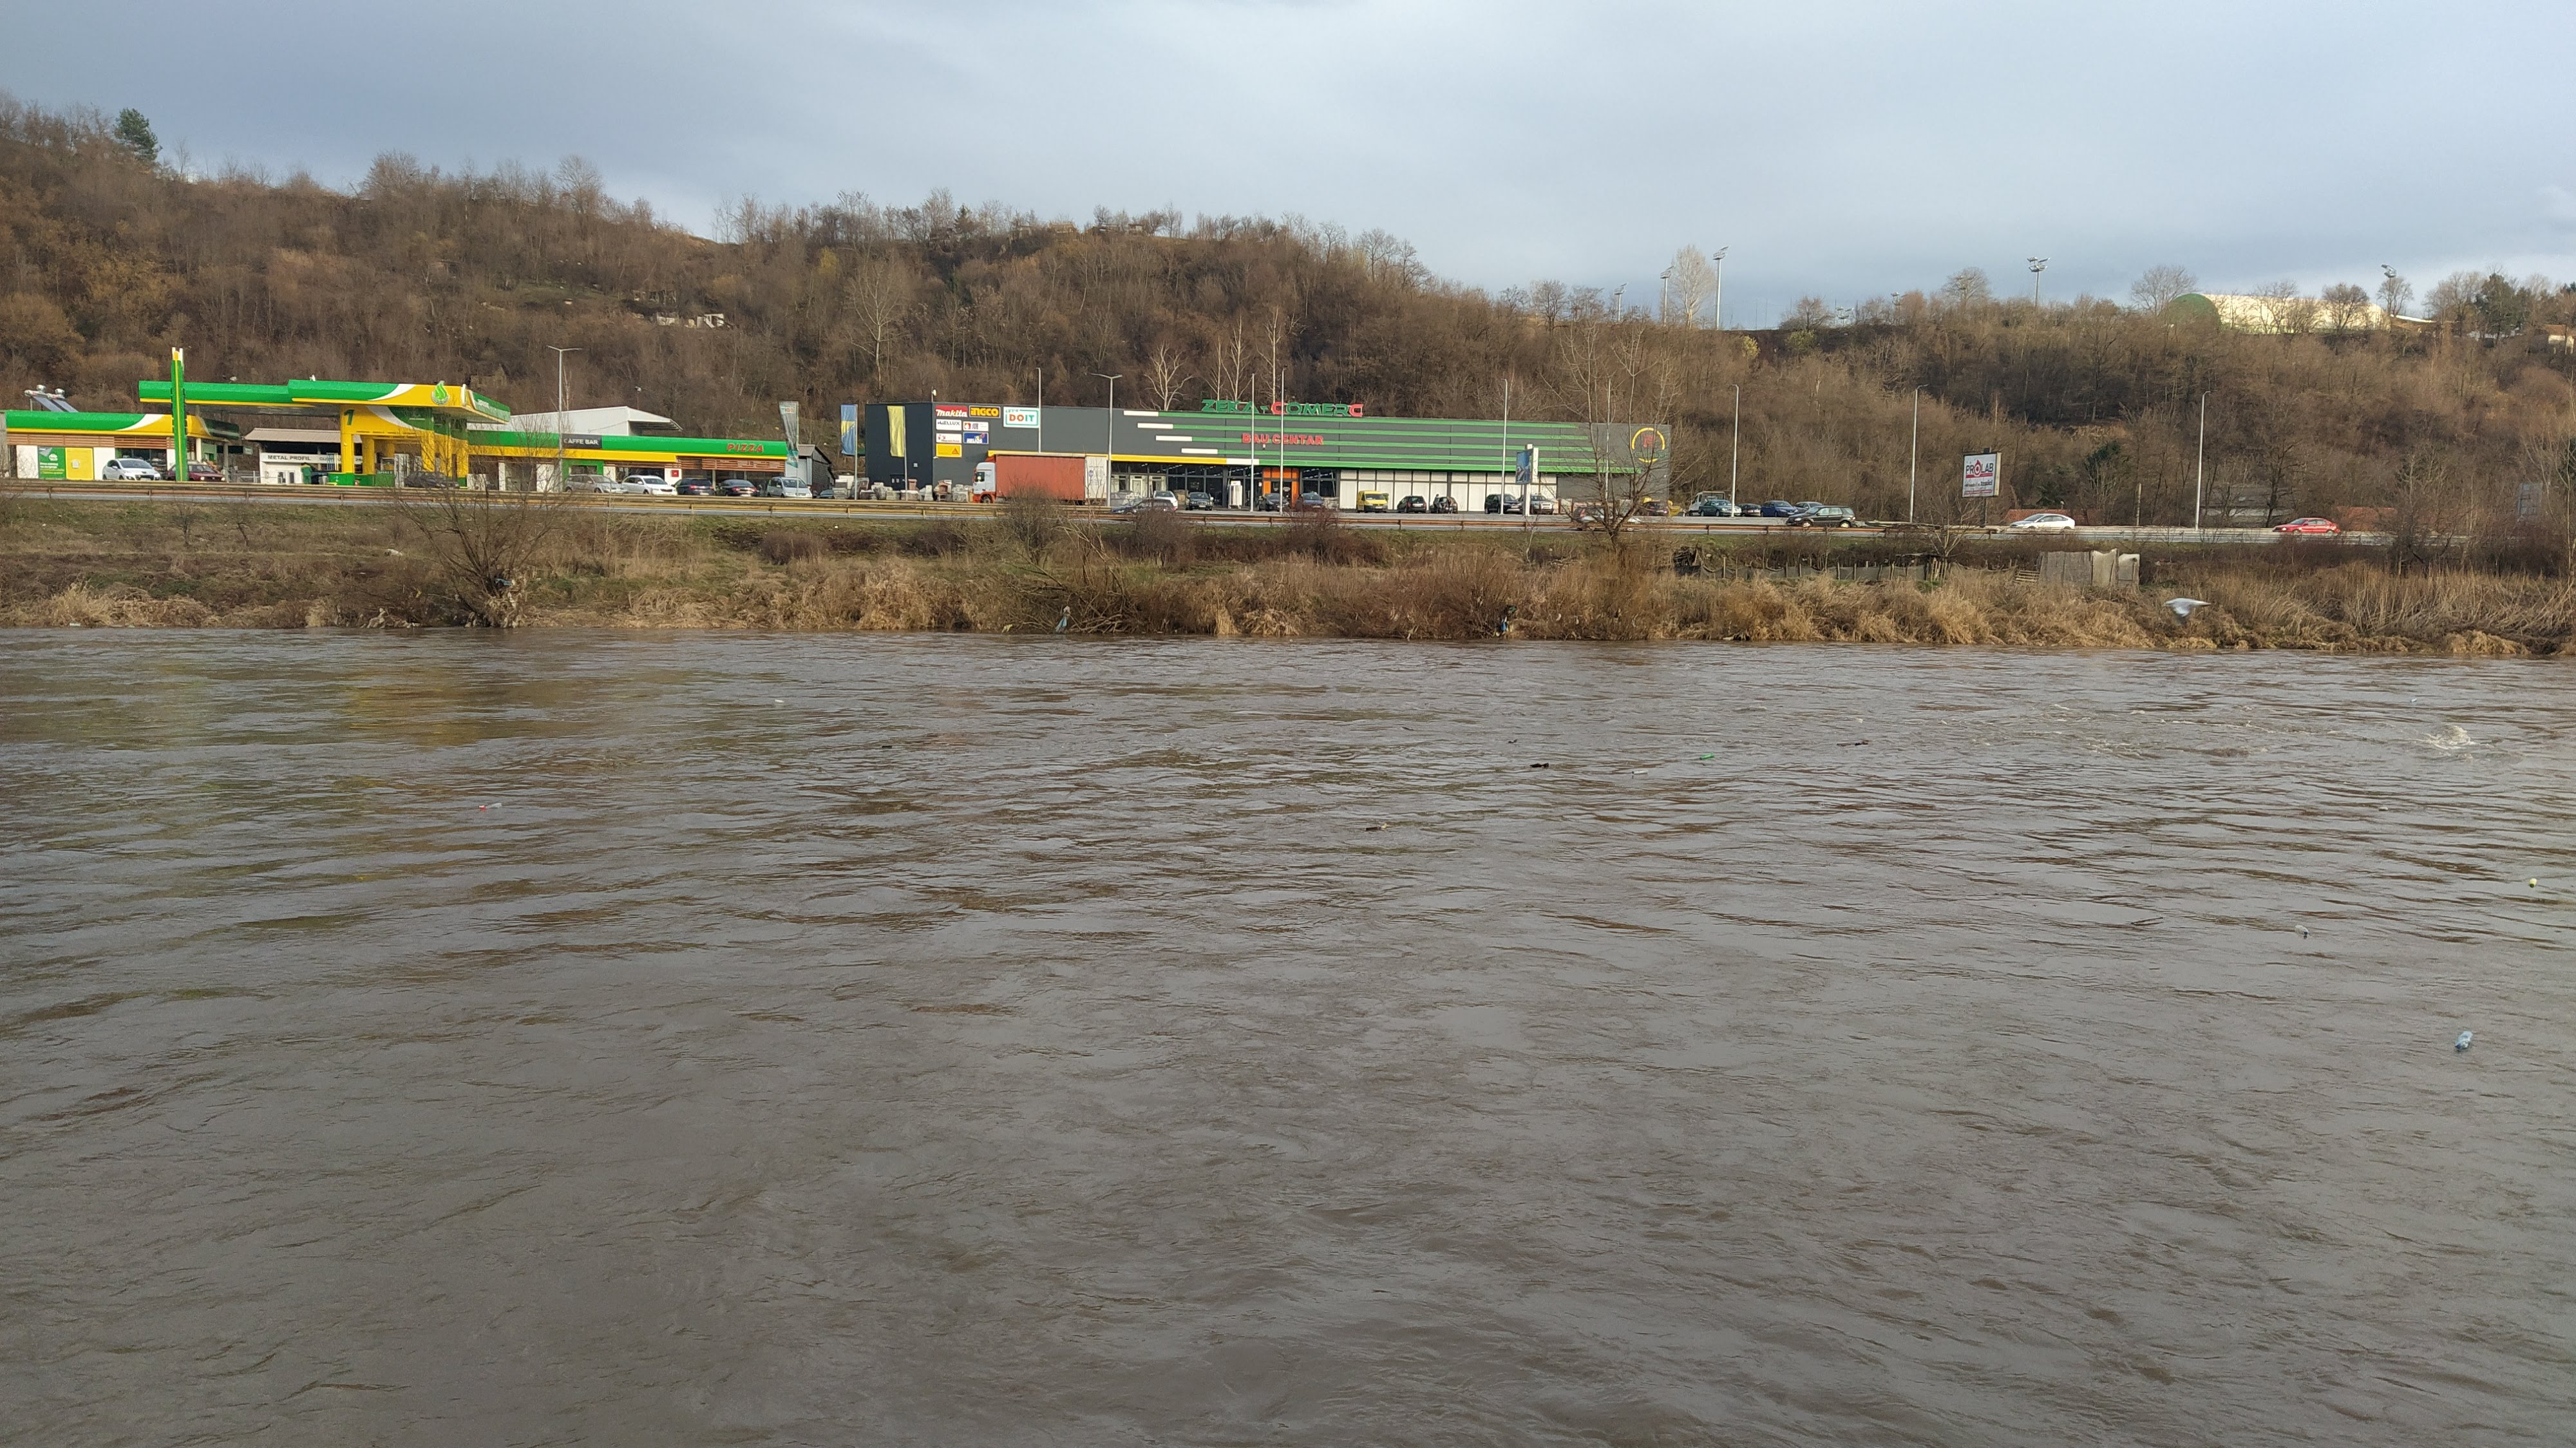Plastic Bottle: (2456, 1030, 2473, 1050), (479, 802, 502, 809), (2295, 924, 2309, 935), (1529, 763, 1548, 768), (1700, 752, 1714, 759), (2528, 878, 2537, 887), (1364, 827, 1380, 830), (1631, 770, 1647, 774), (775, 699, 784, 703), (69, 623, 80, 625), (2410, 697, 2415, 701)
